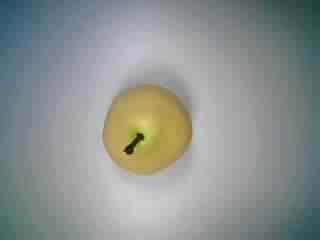pear: (95, 76, 204, 178)
